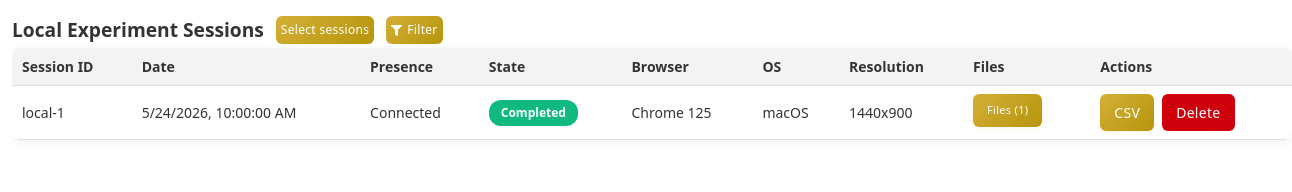
Test: ResultsList container › renders local sessions, merges websocket updates, and manages participant files
Expected: the text "local-1" is shown, [12,86,132,140]
Expected: the text "Connected" is shown, [360,86,479,140]
Click the button "Files (1)": (1008, 110) [973,94,1042,126]
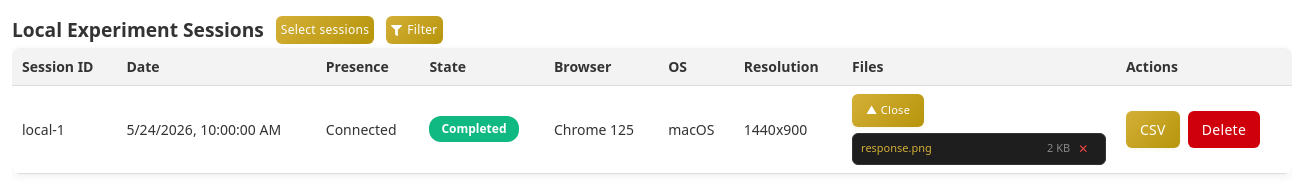
Expected: the link "response.png" is shown, [861,140,932,155]
Click the button titled "Delete file": (1083, 148) [1076,140,1091,158]
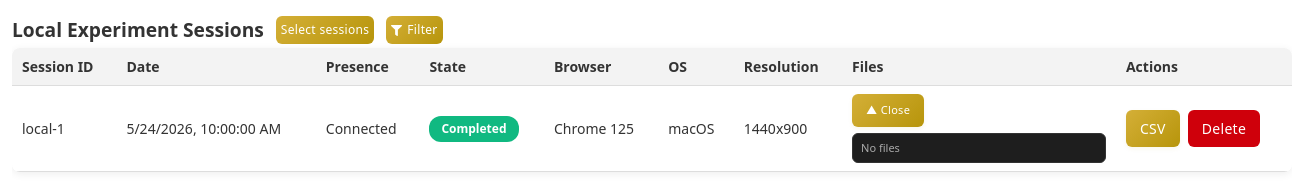
Expected: the link "response.png" is gone
